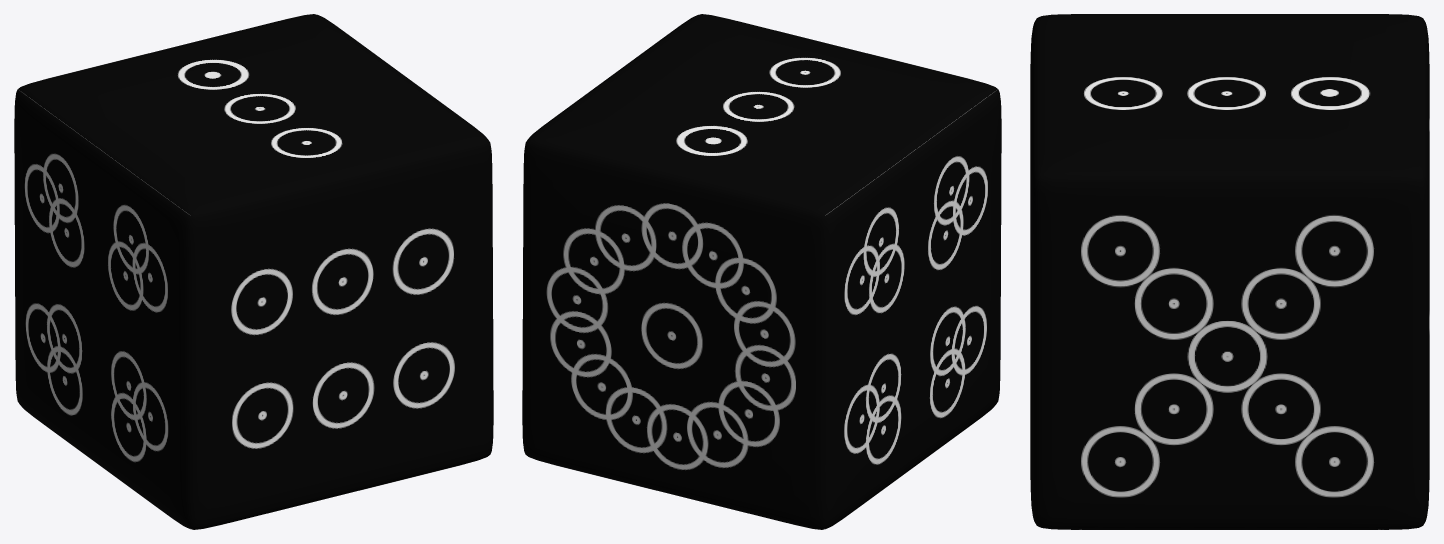
File: Dice.gltf
3 renders of one model, left to right at view 1: azimuth 30°, elevation 25°; view 2: azimuth 150°, elevation 25°; view 3: azimuth 270°, elevation 25°, orthographic. The views are drawn at different scales.
Visible parts, largest first — view 1: Cube; view 2: Cube; view 3: Cube.
Part boxes in pixels (bbox=[...]): Cube: bbox=[14, 14, 493, 529]; Cube: bbox=[522, 14, 1001, 529]; Cube: bbox=[1030, 14, 1429, 529].
Size of the model in its own units: 0.0654 by 0.0654 by 0.0652.
Materials: 1 (1 with a texture image).
